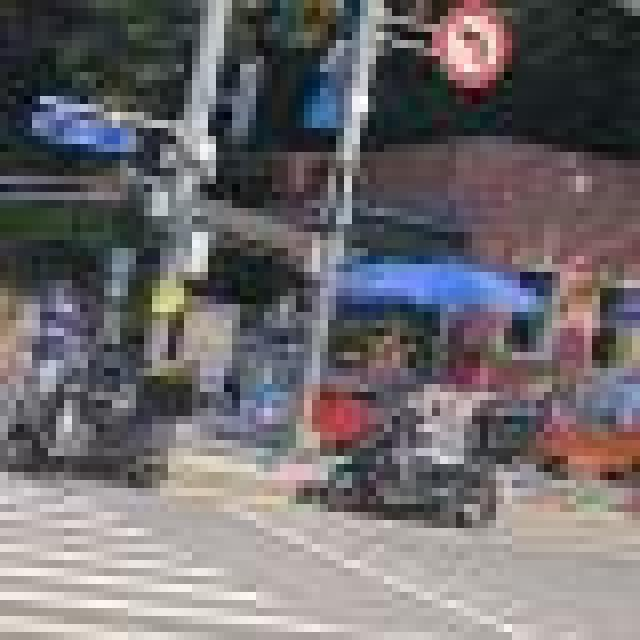crosswalk: (0, 480, 368, 632)
